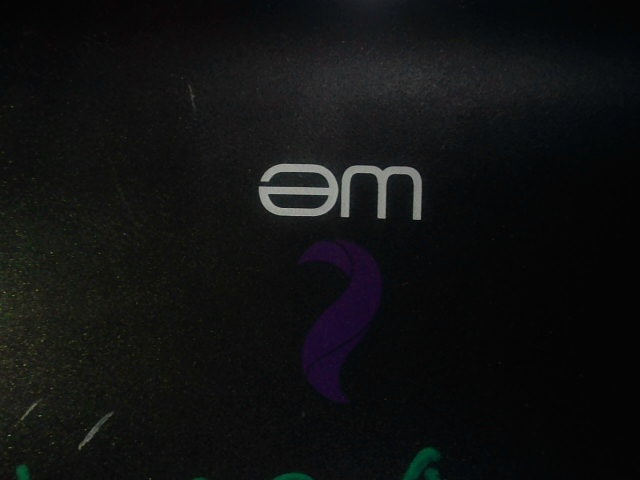AT_We: (243, 160, 443, 417)
